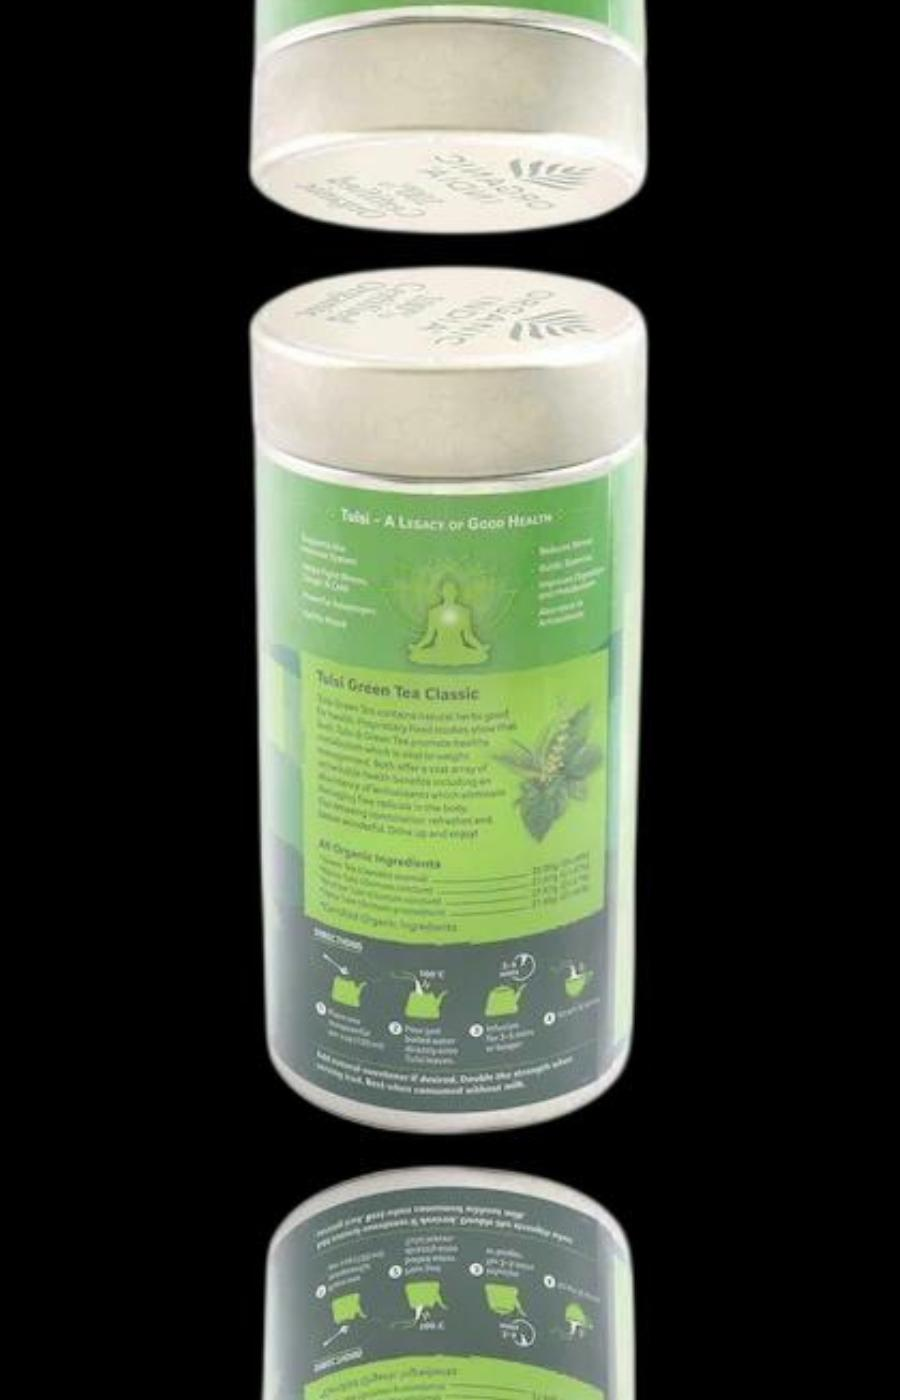Organic India Tulsi Green Tea 100 g: (247, 266, 643, 1134), (247, 0, 643, 234), (247, 1166, 643, 1400)
